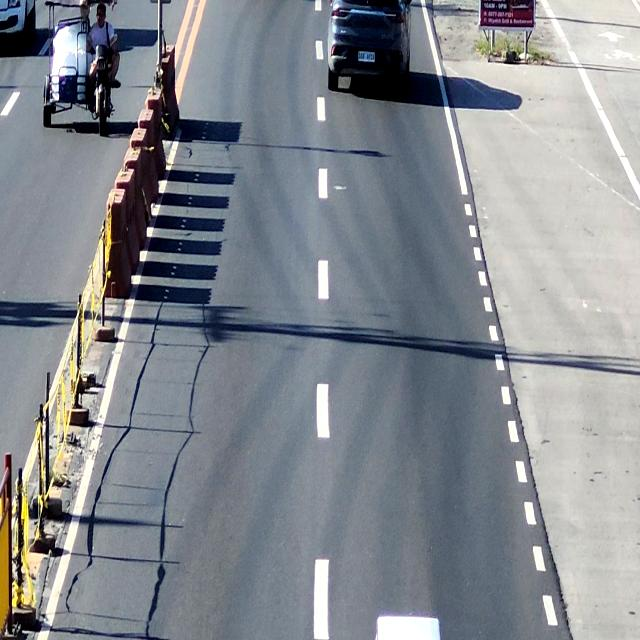Car: (322, 0, 412, 95)
License-Plate: (356, 49, 375, 66)
